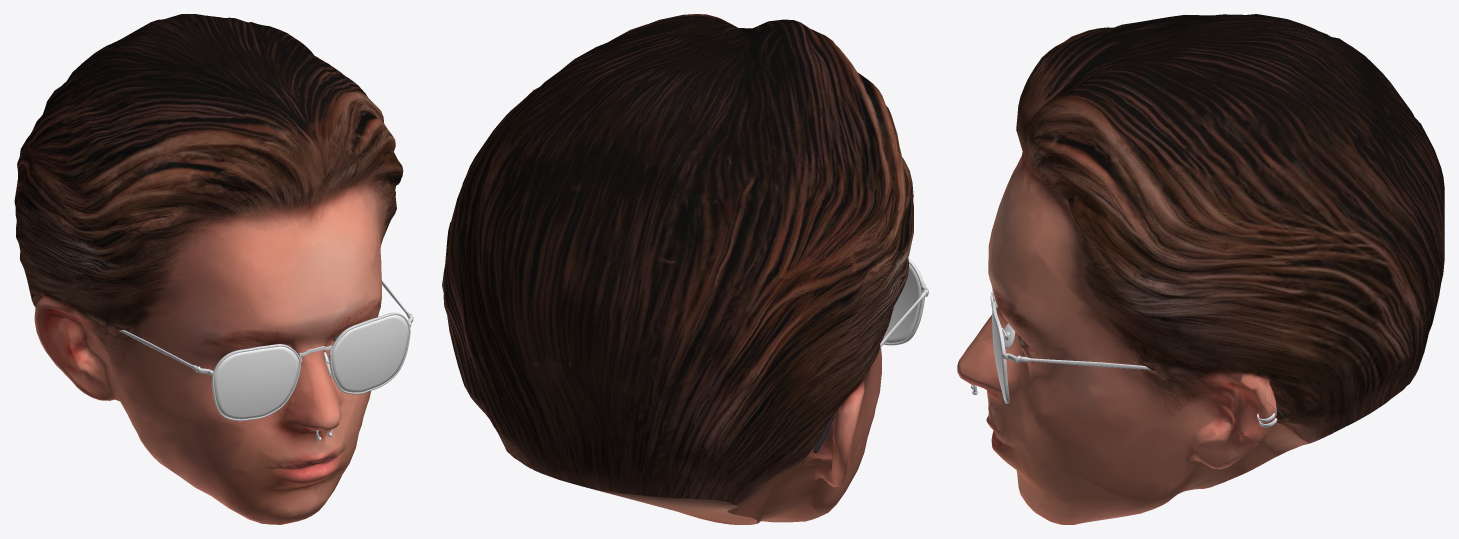
File: head.glb
The picture shows the model from 3 angles, left to right: view 1: azimuth 30°, elevation 25°; view 2: azimuth 150°, elevation 25°; view 3: azimuth 270°, elevation 25°; orthographic projection. The views are drawn at different scales.
Parts seen in each view (by area): view 1: Head, Glasses_Lenses, Glasses_Frame; view 2: Head, Glasses_Lenses; view 3: Head, Glasses_Temple_L, Glasses_Frame.
Boxes of the visible parts, x1=… form: Head: x1=14, y1=14, x2=403, y2=524; Glasses_Lenses: x1=214, y1=315, x2=408, y2=419; Glasses_Frame: x1=196, y1=312, x2=413, y2=421; Head: x1=442, y1=14, x2=913, y2=524; Glasses_Lenses: x1=882, y1=263, x2=921, y2=342; Head: x1=957, y1=14, x2=1444, y2=524; Glasses_Temple_L: x1=1015, y1=356, x2=1283, y2=417; Glasses_Frame: x1=992, y1=299, x2=1020, y2=403.
Bounding box in the file's own units: 1.49 × 1.89 × 1.73.
Materials: 18 (6 with a texture image).
